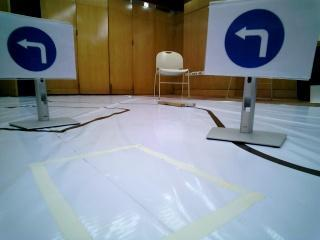left: (214, 0, 301, 77), (0, 21, 67, 75)
